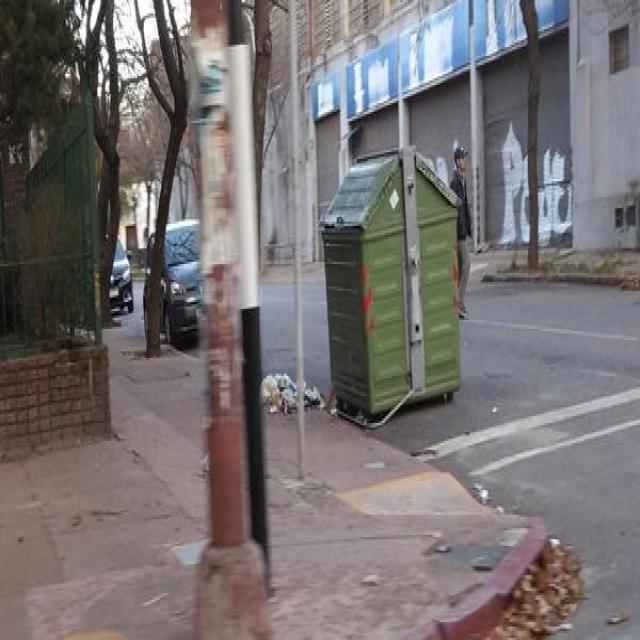garbage: (538, 530, 594, 636), (259, 368, 319, 420), (504, 562, 542, 638)
